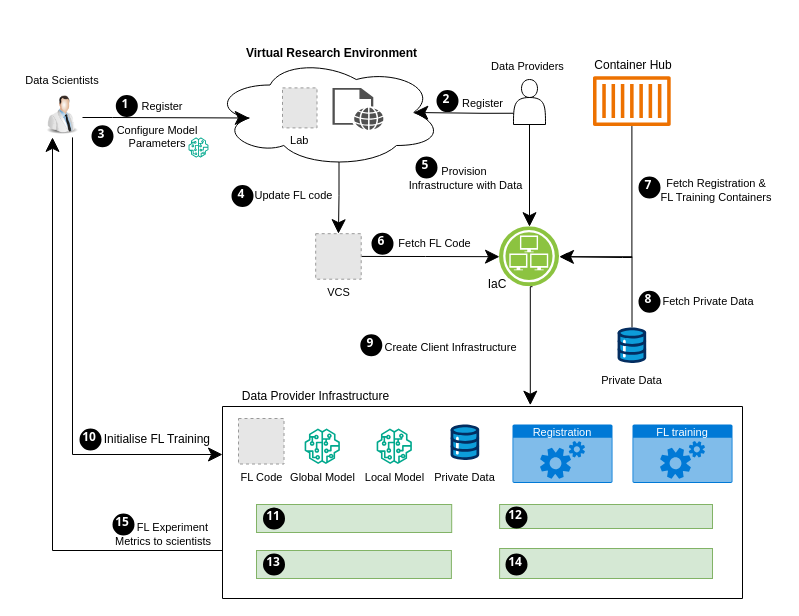
The diagram is 799 pixels wide and 616 high, and some of its shapes have lost their labels. Grey dashed boxes stand in for pictures. Each missing label, with the box of its shape:
Fetch aggregated model: (256, 550, 451, 578)
FL Portal: (332, 87, 383, 129)
FL training with private data: (256, 504, 452, 532)
Model aggregation: (499, 504, 712, 528)
Repeat training and aggregation: (499, 548, 712, 578)
